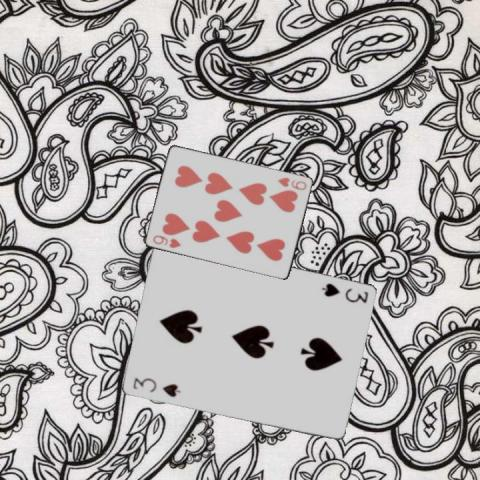3s: (318, 280, 369, 305), (130, 374, 182, 398)
9h: (275, 174, 309, 191), (150, 232, 183, 249)
